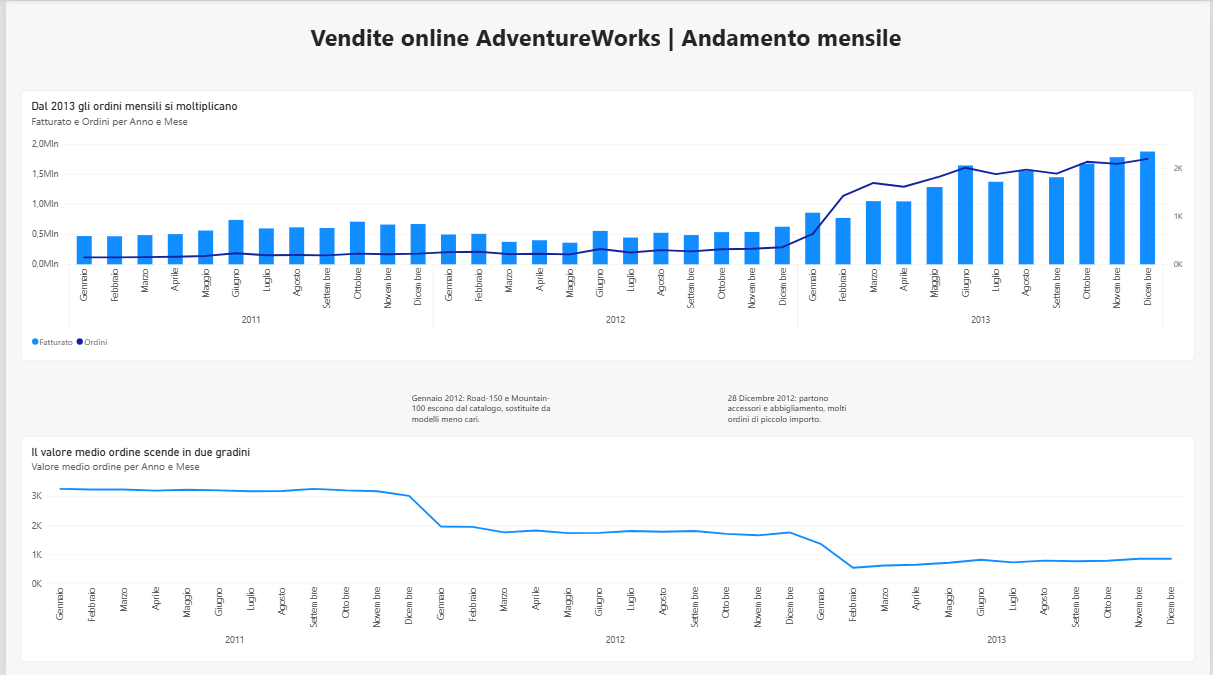

The dashboard page shown, as its layout file describes it:
{"tool":"powerbi","page":{"name":"Andamento mensile","canvas":[1920,1080],"ordinal":2},"visuals":[{"type":"textbox","box":[10,30,1896.7,66.7],"z":0},{"type":"lineClusteredColumnComboChart","title":"Dal 2013 gli ordini mensili si moltiplicano","fields":{"Category":["Calendario.Anno","Calendario.Mese"],"Y":["_Misure.Fatturato"],"Y2":["_Misure.Ordini"]},"box":[24,144,1872,432],"z":1000},{"type":"lineChart","title":"Il valore medio ordine scende in due gradini","fields":{"Category":["Calendario.Anno","Calendario.Mese"],"Y":["_Misure.Valore medio ordine"]},"box":[24,696,1872,360],"z":2000},{"type":"textbox","box":[648,624,240,72],"z":3000},{"type":"textbox","box":[1152,624,192,72],"z":4000}]}

Visuals, with their boxes in screenshot pixels (x1, y1, x2, y2), scaled from the page's 1920x1080 canvas onto the 1213x675 screenshot:
textbox: (left=6, top=19, right=1205, bottom=60)
"Dal 2013 gli ordini mensili si moltiplicano" lineClusteredColumnComboChart: (left=15, top=90, right=1198, bottom=360)
"Il valore medio ordine scende in due gradini" lineChart: (left=15, top=435, right=1198, bottom=660)
textbox: (left=409, top=390, right=561, bottom=435)
textbox: (left=728, top=390, right=849, bottom=435)
